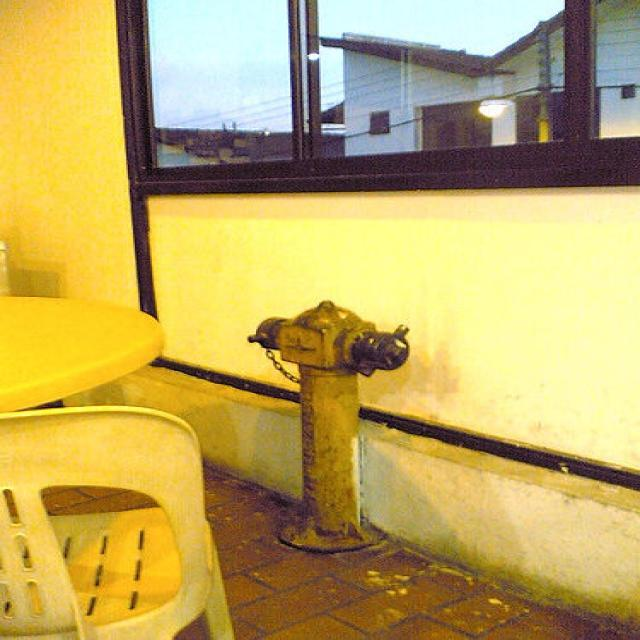fire_hydrant: (247, 300, 408, 550)
